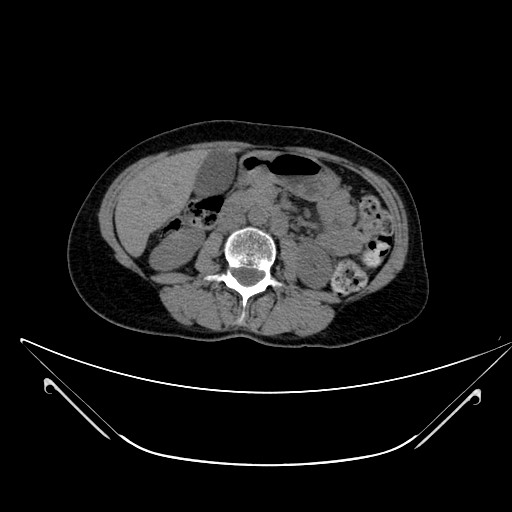vesicula: (193, 147, 239, 202)
